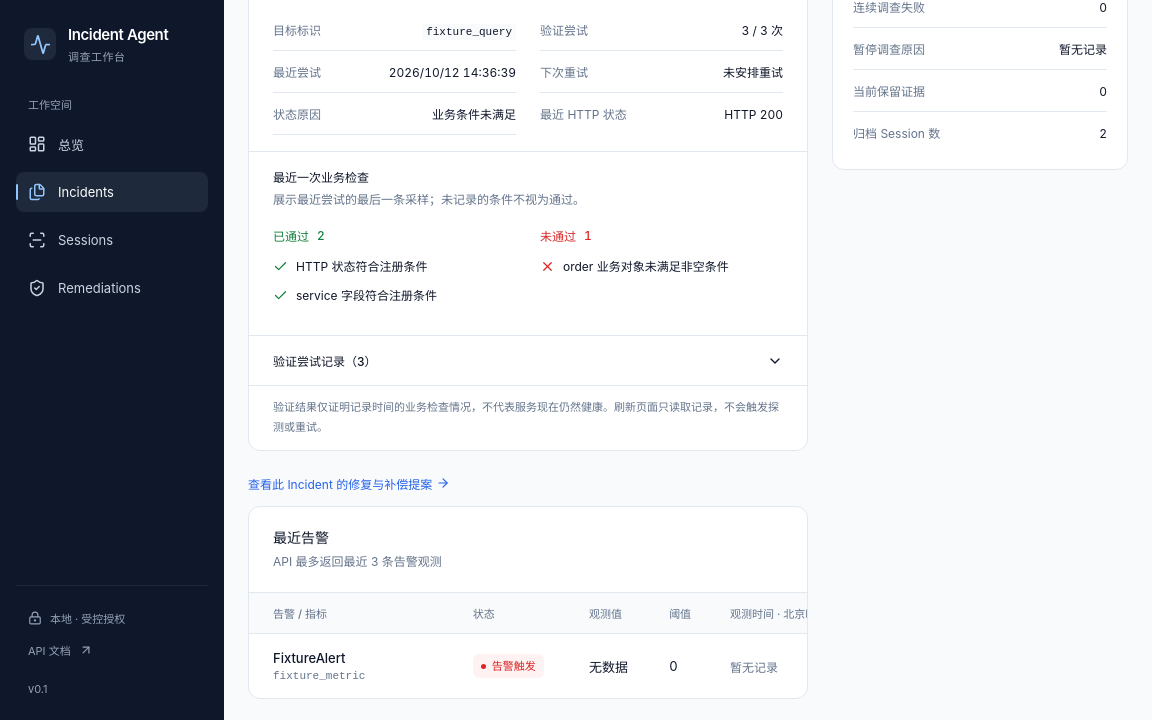
it: shows exhausted attempts without promising another retry
The width and height of the screenshot is (1152, 720).
(page scrolled)
Expected: the text "3 / 3 次" is shown, [741,21,783,38]
Click the heading "验证尝试记录（3）" at (315, 362), box [273,352,783,369]
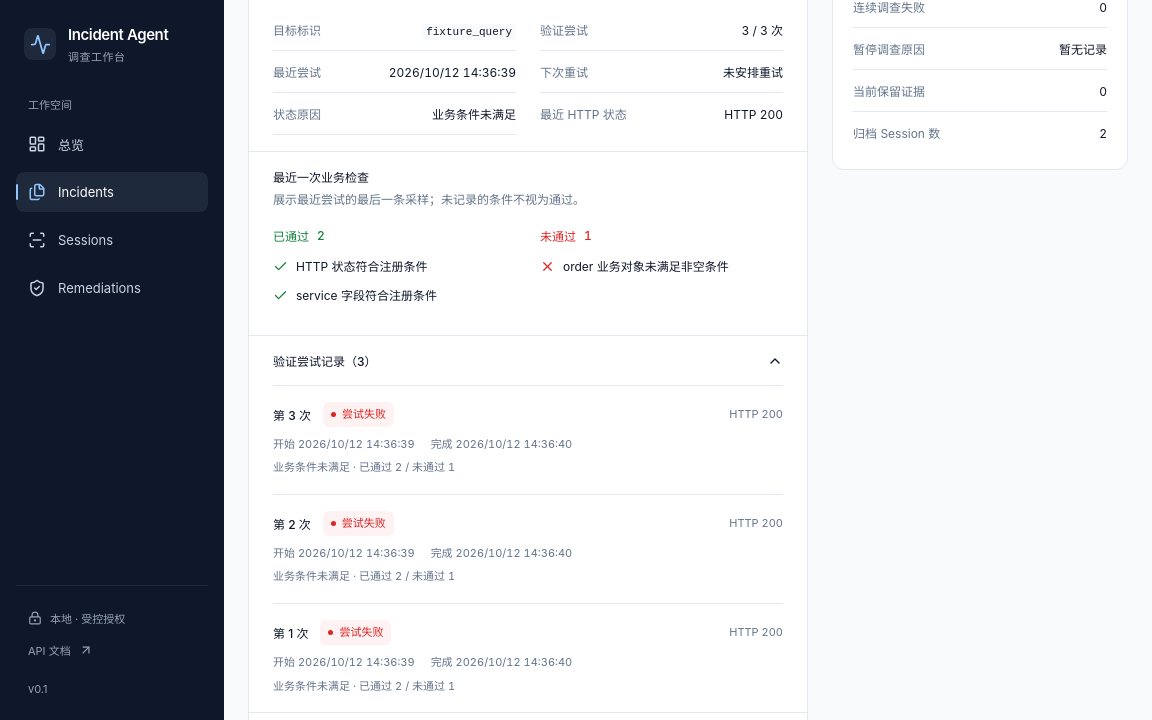
Expected: the text "第 3 次" is shown, [273,406,311,423]
Expected: the text "第 1 次" is shown, [273,624,308,641]
